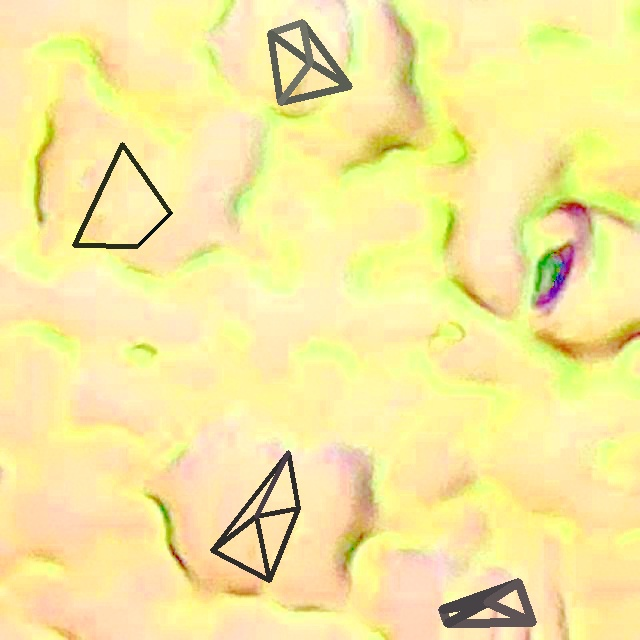close: (211, 451, 300, 582), (73, 142, 171, 248), (267, 19, 352, 105), (438, 578, 536, 627)
